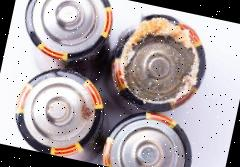electronic: (1, 58, 116, 164), (14, 0, 117, 76), (99, 96, 203, 167)
